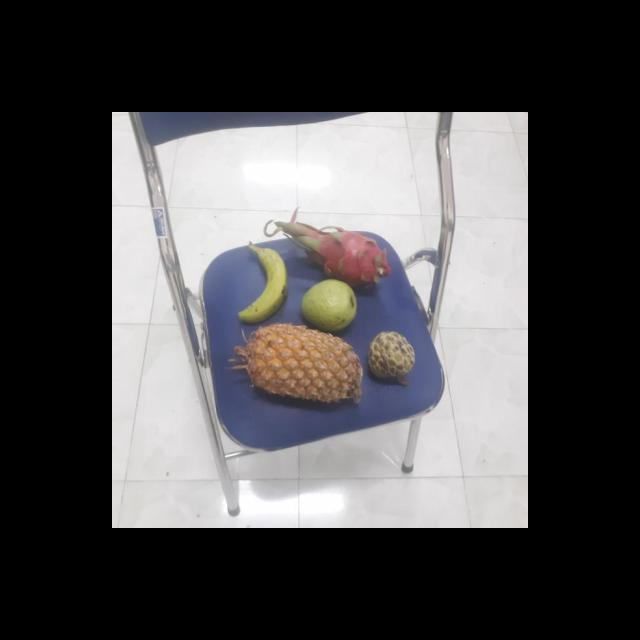Sakya fruit: (364, 332, 416, 384)
banana: (235, 244, 288, 324)
guava: (298, 278, 360, 334)
pineapple: (240, 324, 361, 406)
pitaya: (288, 226, 386, 290)
